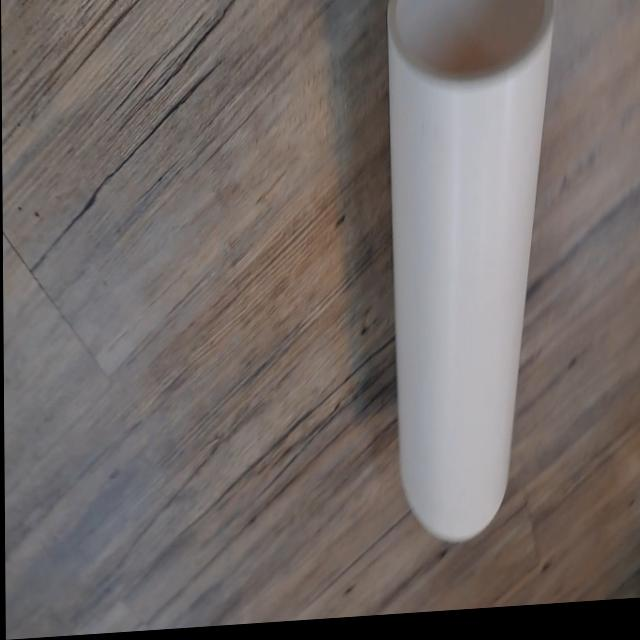CORAL: (382, 0, 569, 557)
